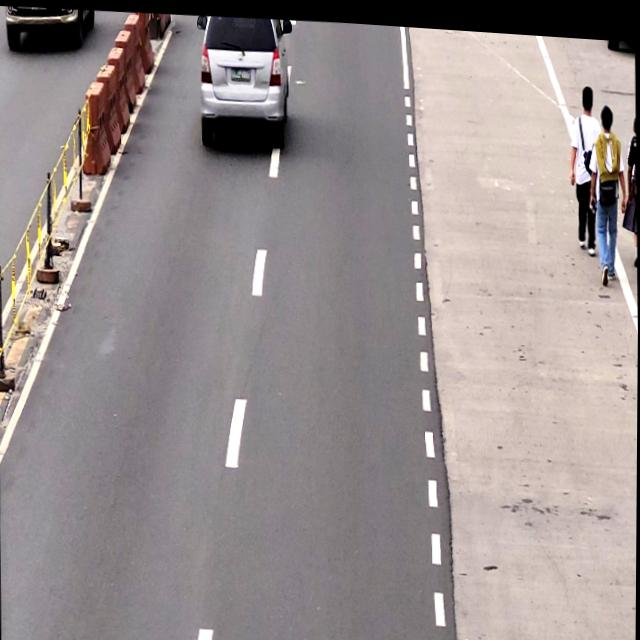Car: (187, 10, 291, 153)
License-Plate: (230, 62, 251, 83)
